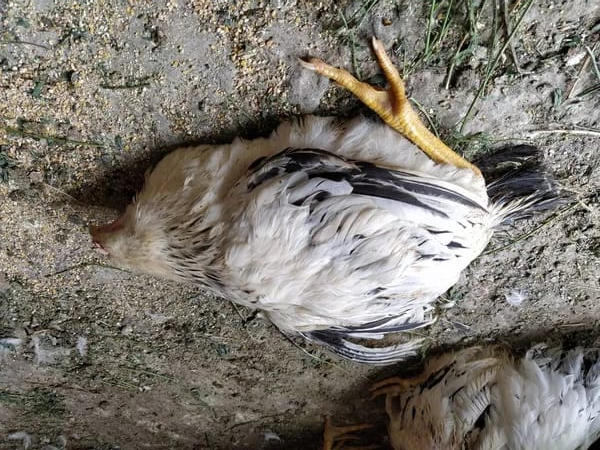Unhealthy: (62, 59, 560, 374)
